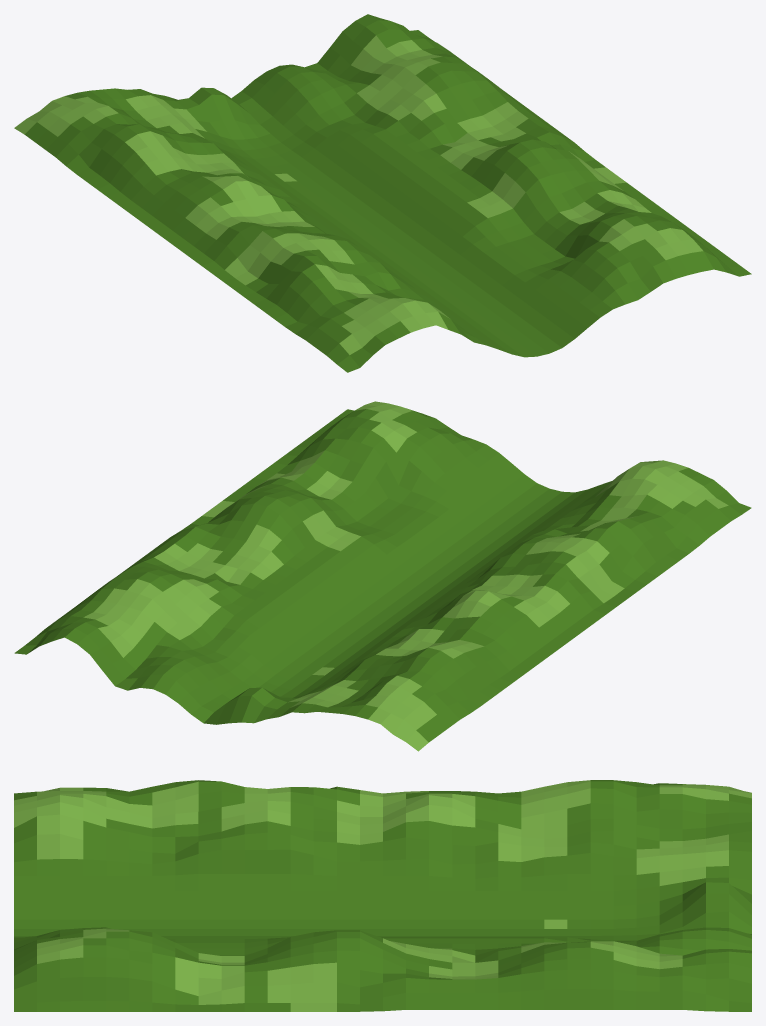
Rendered from Flappy Background.fbx.
The picture shows the model from 3 angles, top to bottom: view 1: azimuth 30°, elevation 25°; view 2: azimuth 150°, elevation 25°; view 3: azimuth 270°, elevation 25°; orthographic projection. The views are drawn at different scales.
Visible parts, largest first — view 1: object Valley; view 2: object Valley; view 3: object Valley.
Part boxes in pixels (box(x1,y1,x2,y2)): object Valley: box(14, 14, 751, 372); object Valley: box(14, 401, 751, 751); object Valley: box(14, 780, 751, 1011).
Bounding box in the file's own units: 54134 × 8400 × 77334.
